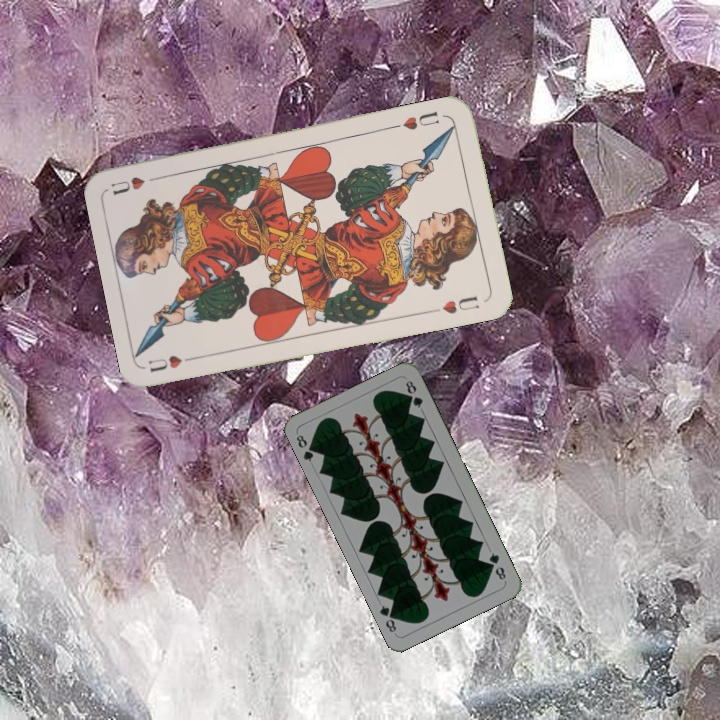G8: (292, 431, 320, 464), (485, 548, 509, 583)
HU: (144, 351, 203, 375), (399, 107, 442, 133)
